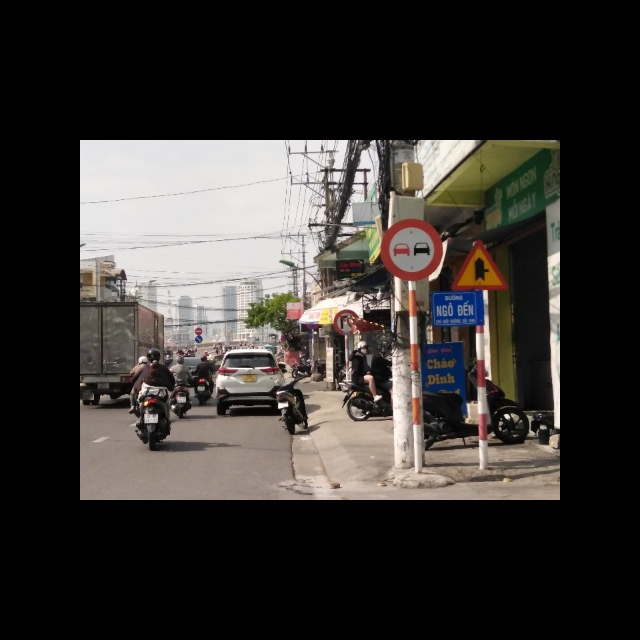Cấm vượt: (380, 219, 441, 281)
Giao nhau với đường không ưu tiên: (455, 239, 512, 291)
